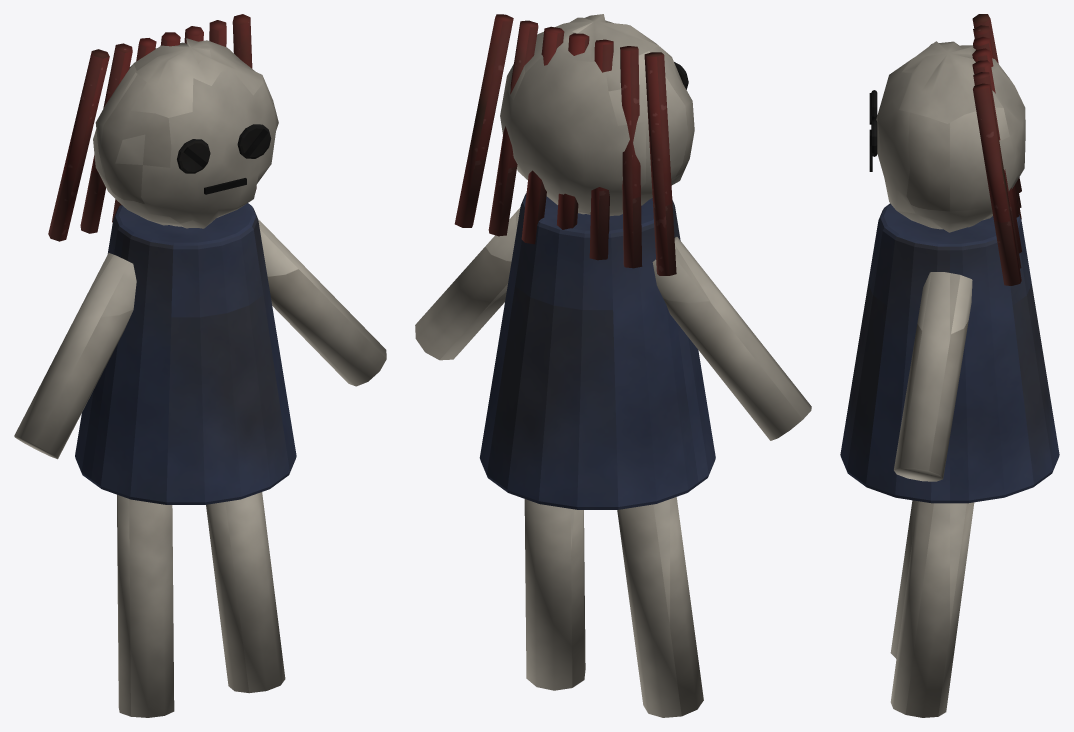
Rendered from T13_ragdoll.glb.
3 renders of one model, left to right at view 1: azimuth 30°, elevation 25°; view 2: azimuth 150°, elevation 25°; view 3: azimuth 270°, elevation 25°, orthographic. The views are drawn at different scales.
Parts seen in each view (by area): view 1: T13_ragdoll; view 2: T13_ragdoll; view 3: T13_ragdoll.
Part boxes in pixels (box(x1,y1,x2,y2)): T13_ragdoll: box(14, 14, 386, 717); T13_ragdoll: box(415, 14, 811, 717); T13_ragdoll: box(840, 14, 1059, 717).
Size of the model in its own units: 0.2974 by 0.5 by 0.1568.
5 materials, 5 textured.
